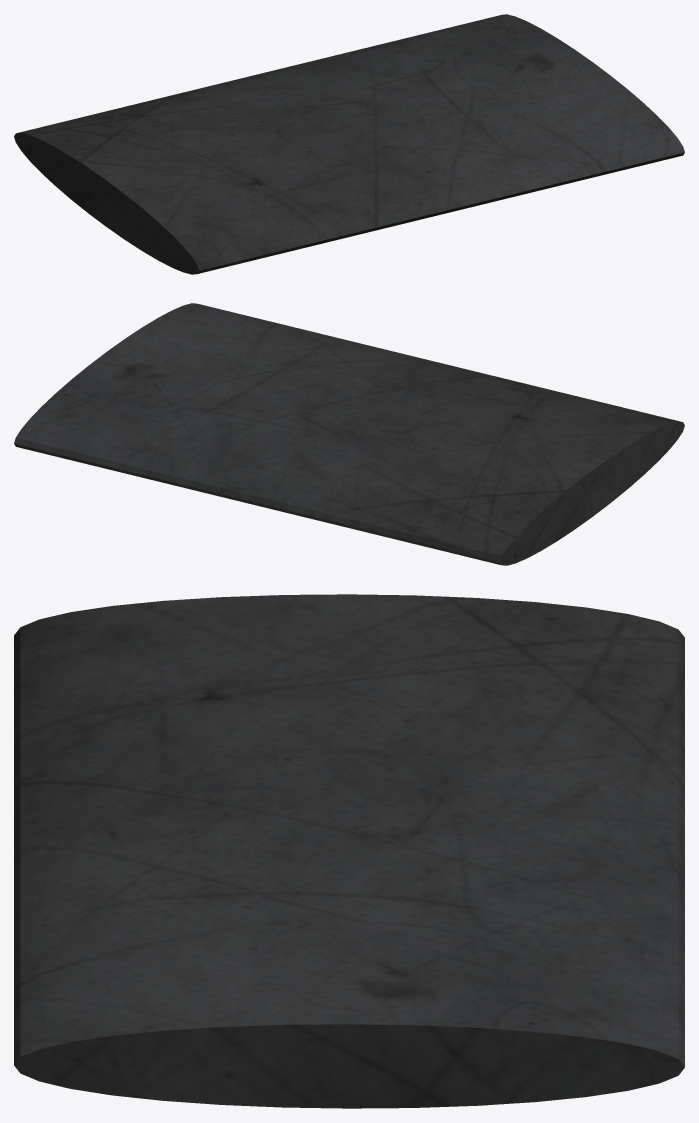
File: BackRightFin.glb
3 views of the same model, one above another, from view 1: azimuth 30°, elevation 25°; view 2: azimuth 150°, elevation 25°; view 3: azimuth 270°, elevation 25° (orthographic). The views are drawn at different scales.
Visible parts, largest first — view 1: Cylinder.018_Material.001_0.001; view 2: Cylinder.018_Material.001_0.001; view 3: Cylinder.018_Material.001_0.001.
Boxes of the visible parts, x1,y1,x2,y2 form: Cylinder.018_Material.001_0.001: [14, 14, 684, 274]; Cylinder.018_Material.001_0.001: [14, 303, 684, 565]; Cylinder.018_Material.001_0.001: [14, 594, 684, 1108].
Size of the model in its own units: 117 by 10.75 by 77.5.
Materials: 1 (1 with a texture image).
